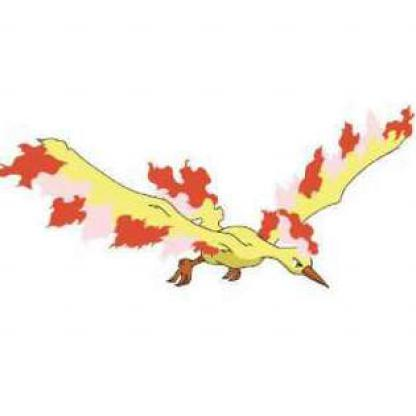Moltres: (1, 21, 416, 416)
